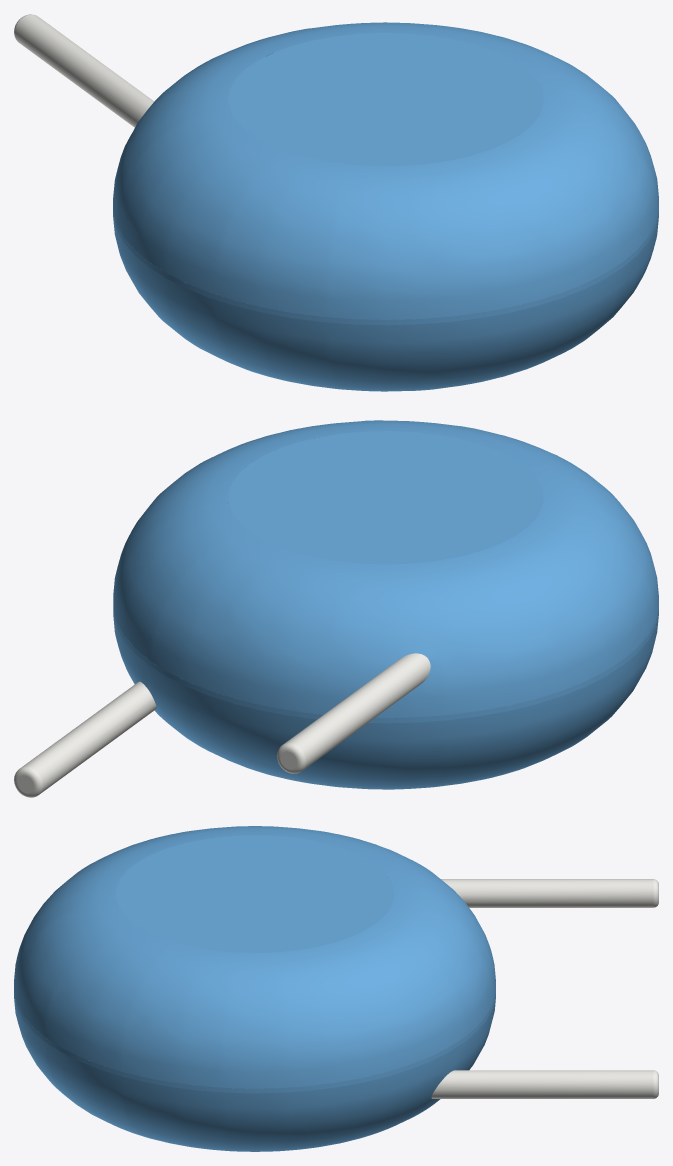
The model's file is RV_Disc_D9mm_W3.9mm_P5mm.glb.
3 views of the same model, one above another, from view 1: azimuth 30°, elevation 25°; view 2: azimuth 150°, elevation 25°; view 3: azimuth 270°, elevation 25° (orthographic). The views are drawn at different scales.
Parts seen in each view (by area): view 1: Shape_IndexedFaceSet.001, Shape_IndexedFaceSet.003, Shape_IndexedFaceSet.002, Shape_IndexedFaceSet.004, Shape_IndexedFaceSet; view 2: Shape_IndexedFaceSet.001, Shape_IndexedFaceSet.003, Shape_IndexedFaceSet.002, Shape_IndexedFaceSet.004, Shape_IndexedFaceSet.006, Shape_IndexedFaceSet; view 3: Shape_IndexedFaceSet.001, Shape_IndexedFaceSet.003, Shape_IndexedFaceSet.002, Shape_IndexedFaceSet.006, Shape_IndexedFaceSet.004, Shape_IndexedFaceSet.
Boxes of the visible parts, left/top/right/bottom form: Shape_IndexedFaceSet.001: left=113, top=22, right=658, bottom=319; Shape_IndexedFaceSet.003: left=228, top=33, right=543, bottom=166; Shape_IndexedFaceSet.002: left=113, top=217, right=658, bottom=391; Shape_IndexedFaceSet.004: left=15, top=14, right=154, bottom=127; Shape_IndexedFaceSet: left=113, top=211, right=658, bottom=325; Shape_IndexedFaceSet.001: left=113, top=420, right=658, bottom=717; Shape_IndexedFaceSet.003: left=228, top=431, right=543, bottom=564; Shape_IndexedFaceSet.002: left=113, top=615, right=658, bottom=789; Shape_IndexedFaceSet.004: left=284, top=653, right=430, bottom=769; Shape_IndexedFaceSet.006: left=21, top=681, right=156, bottom=793; Shape_IndexedFaceSet: left=113, top=610, right=658, bottom=723; Shape_IndexedFaceSet.001: left=14, top=826, right=495, bottom=1088; Shape_IndexedFaceSet.003: left=115, top=835, right=394, bottom=952; Shape_IndexedFaceSet.002: left=14, top=998, right=495, bottom=1151; Shape_IndexedFaceSet.006: left=431, top=1070, right=653, bottom=1098; Shape_IndexedFaceSet.004: left=441, top=879, right=653, bottom=907; Shape_IndexedFaceSet: left=14, top=993, right=495, bottom=1093.
Bounding box in the file's own units: 3.54 × 1.54 × 4.73.
